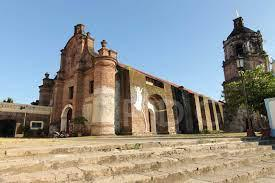Sta. Maria Church: (37, 22, 119, 137)
Unfinished Paint: (89, 85, 116, 124)
